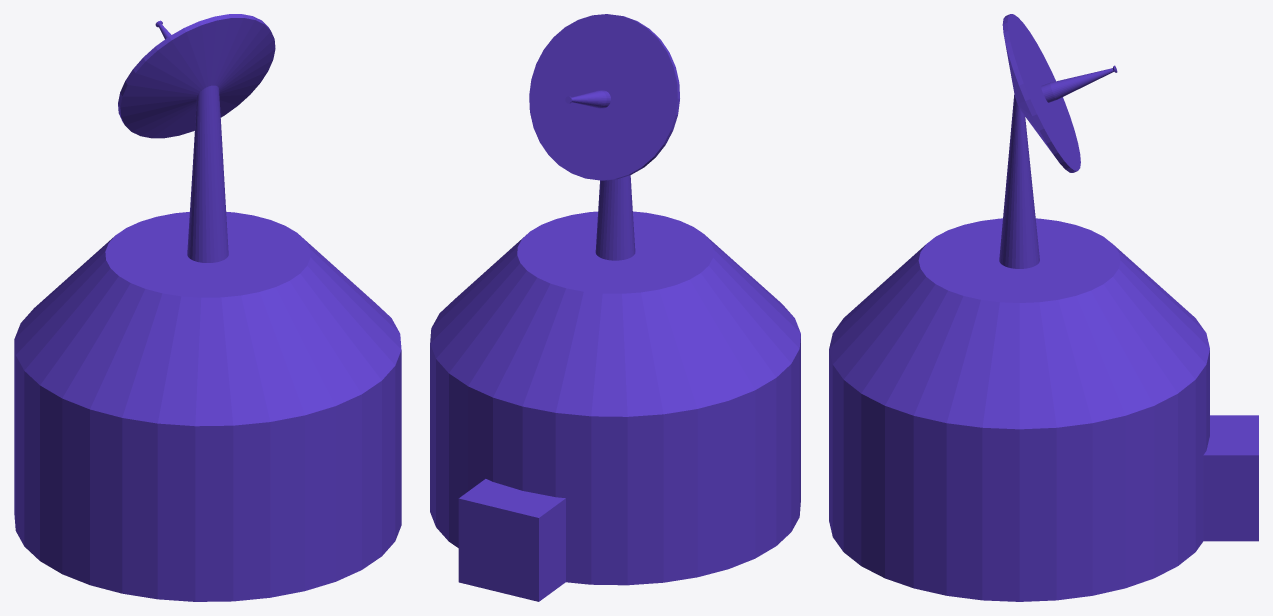
Rendered from Bunker.fbx.
3 views of the same model, side by side, from view 1: azimuth 30°, elevation 25°; view 2: azimuth 150°, elevation 25°; view 3: azimuth 270°, elevation 25° (orthographic). The views are drawn at different scales.
Parts seen in each view (by area): view 1: Cylinder; view 2: Cylinder, Cube, Cylinder.001; view 3: Cylinder, Cube, Cylinder.001.
Boxes of the visible parts, x1,y1,x2,y2 form: Cylinder: [14, 14, 401, 601]; Cylinder: [430, 14, 800, 585]; Cube: [458, 479, 565, 601]; Cylinder.001: [565, 90, 610, 108]; Cylinder: [829, 14, 1209, 601]; Cube: [1203, 415, 1258, 541]; Cylinder.001: [1041, 65, 1117, 102].
Bounding box in the file's own units: 200 × 289 × 226.
